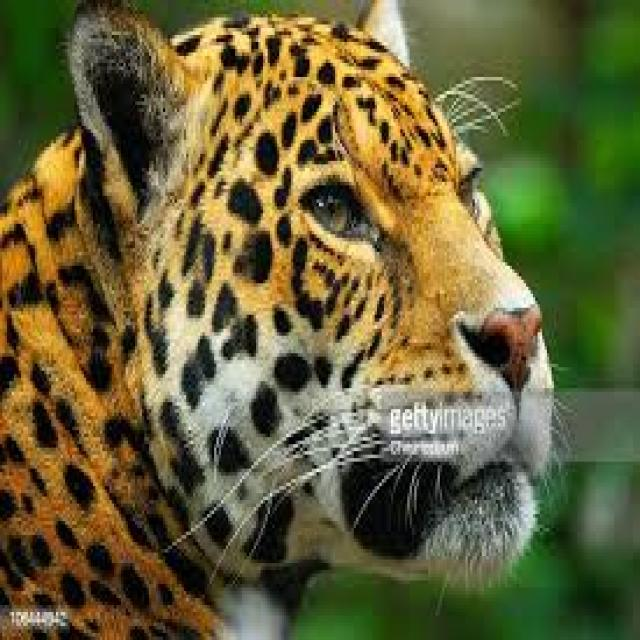Jaguar: (5, 0, 526, 633)
